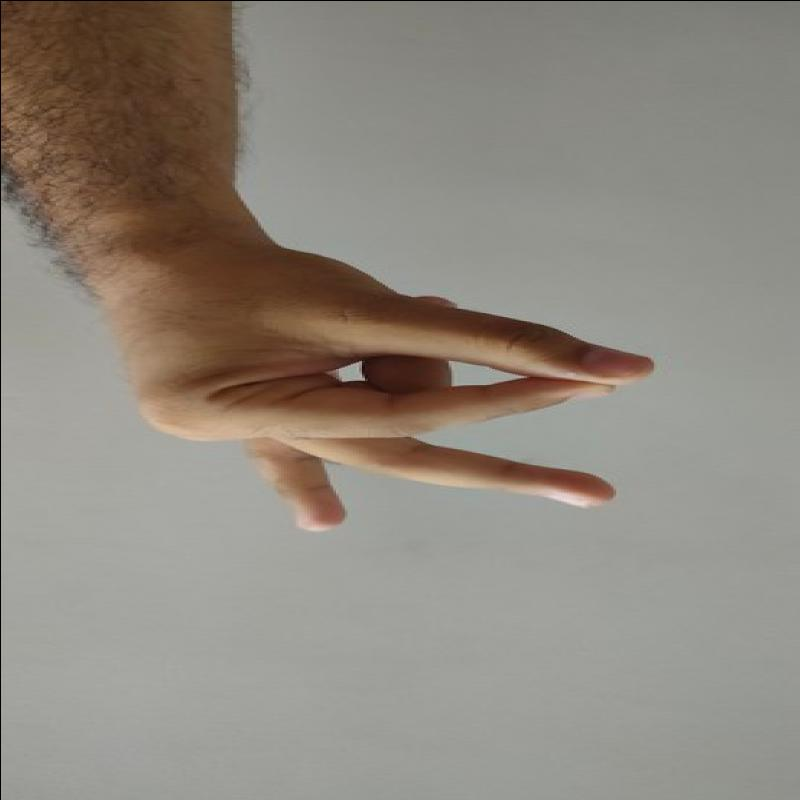Katakam: (104, 229, 675, 564)
